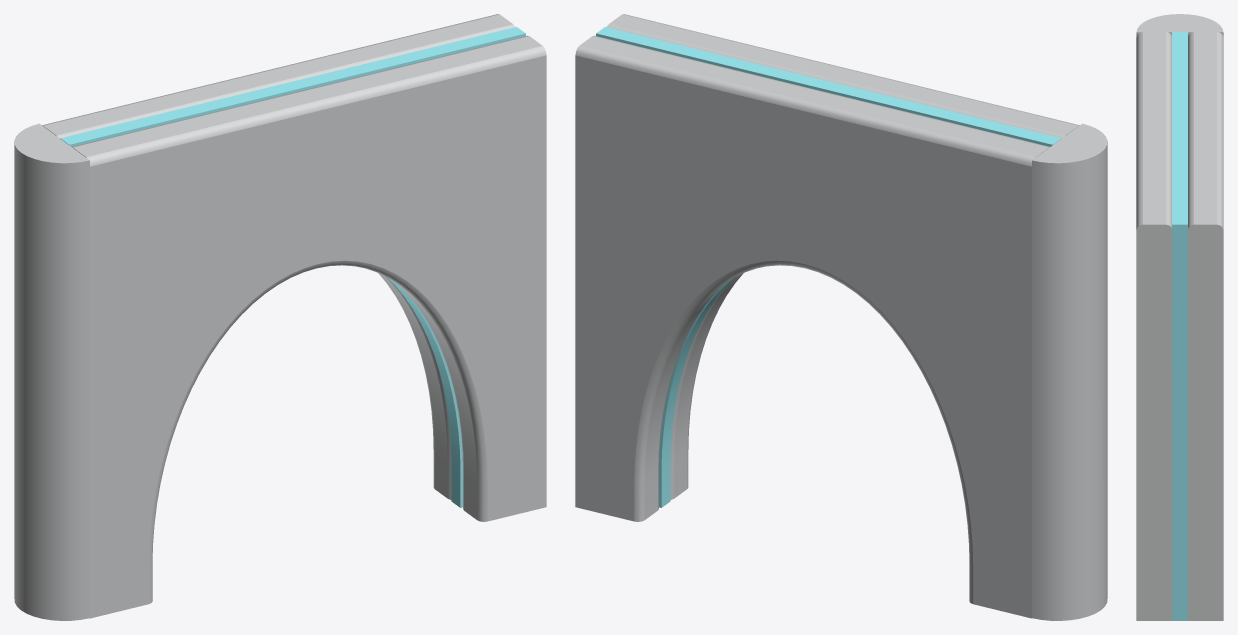
The model's file is Arch_R2D03_LitSeam.fbx.
3 renders of one model, left to right at view 1: azimuth 30°, elevation 25°; view 2: azimuth 150°, elevation 25°; view 3: azimuth 270°, elevation 25°, orthographic. The views are drawn at different scales.
Visible parts, largest first — view 1: Arch_R2D03_LitSeam; view 2: Arch_R2D03_LitSeam; view 3: Arch_R2D03_LitSeam.
Part boxes in pixels (x1=…): Arch_R2D03_LitSeam: x1=14, y1=14, x2=546, y2=620; Arch_R2D03_LitSeam: x1=575, y1=14, x2=1107, y2=620; Arch_R2D03_LitSeam: x1=1136, y1=14, x2=1223, y2=620.
Size of the model in its own units: 2.29 by 2.01 by 0.4.
